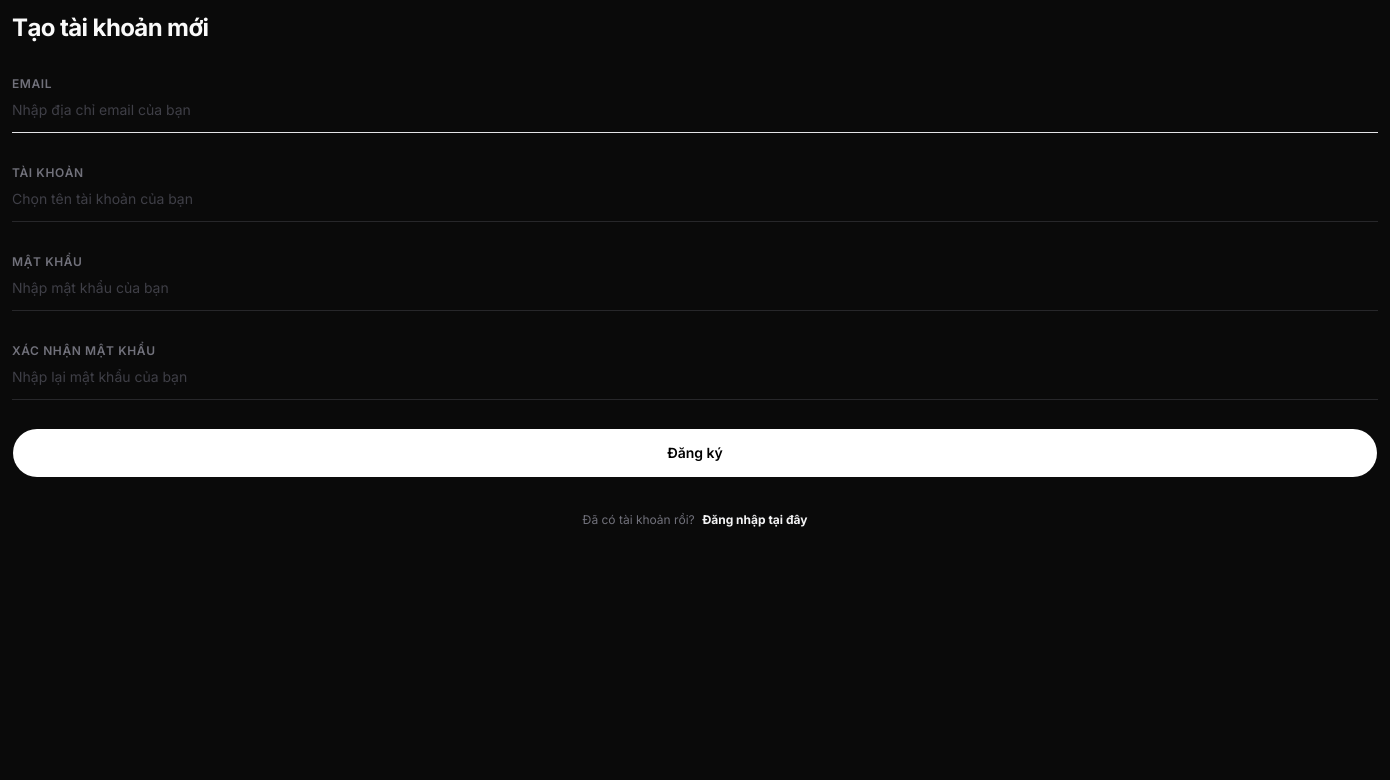
Scenario: RegisterForm (real BE) › shows usernameTaken on 409
Type "new@ysocial.dev" into the field with placeholder "Nhập địa chỉ email của bạn" at (695, 110), box [12,100,1378,120]
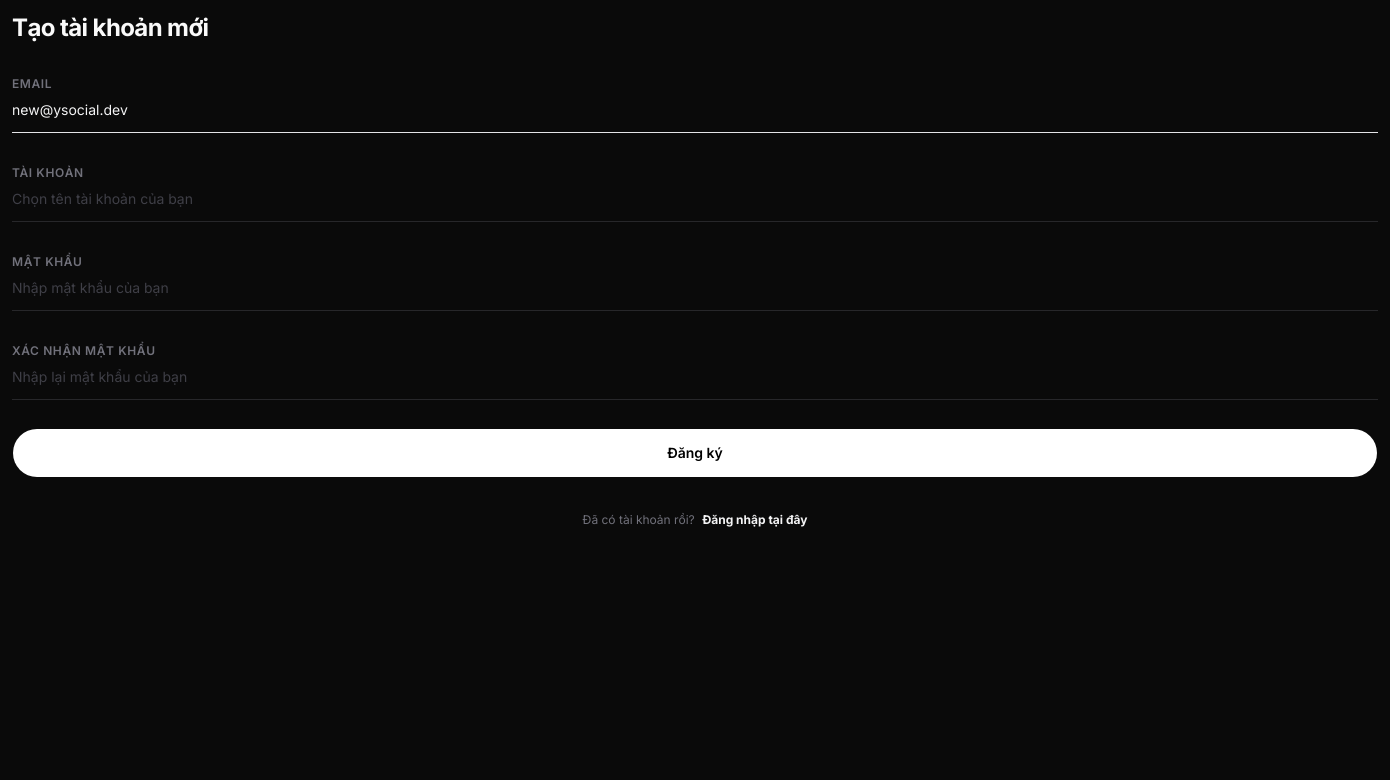
Type "new_user" into the field with placeholder "Chọn tên tài khoản của bạn" at (695, 199), box [12,189,1378,209]
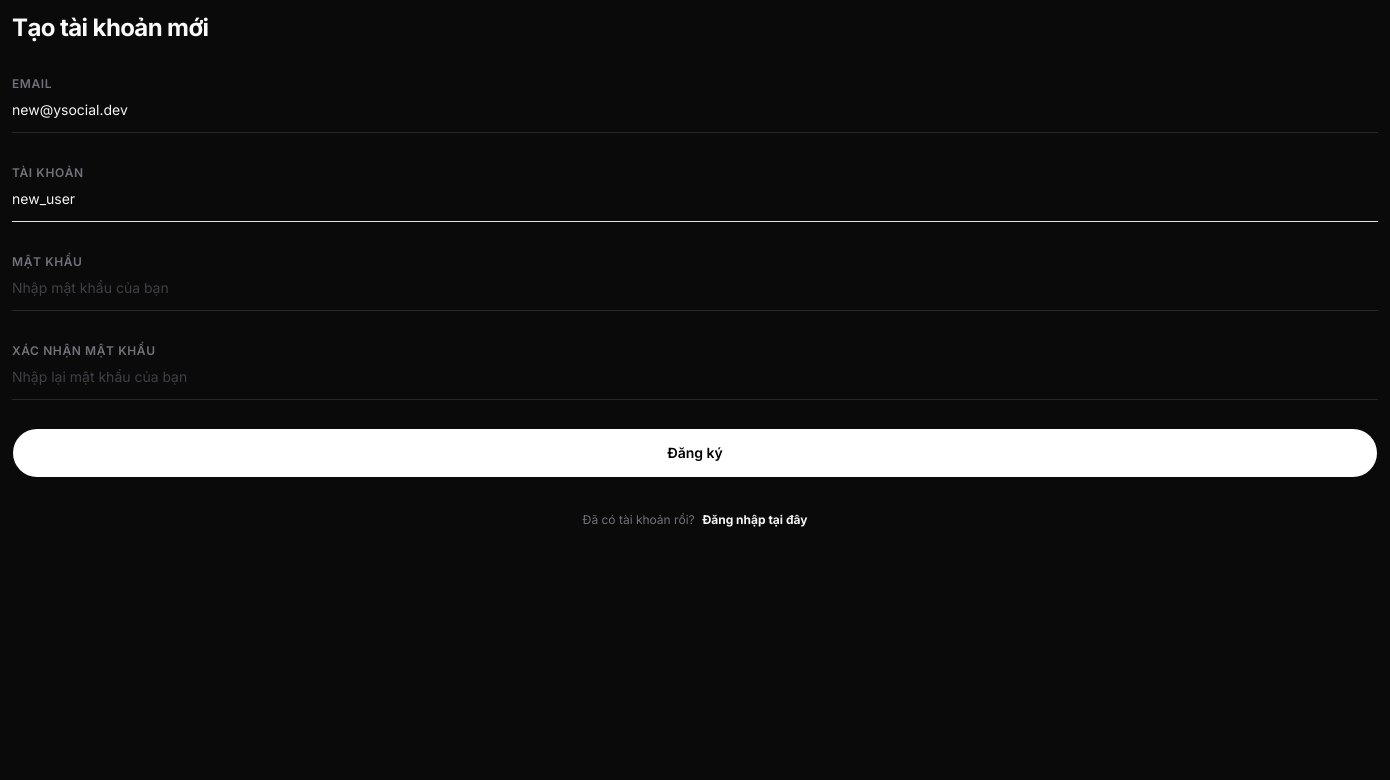
Type "secret1" into the password field with placeholder "Nhập mật khẩu của bạn" at (695, 288), box [12,278,1378,298]
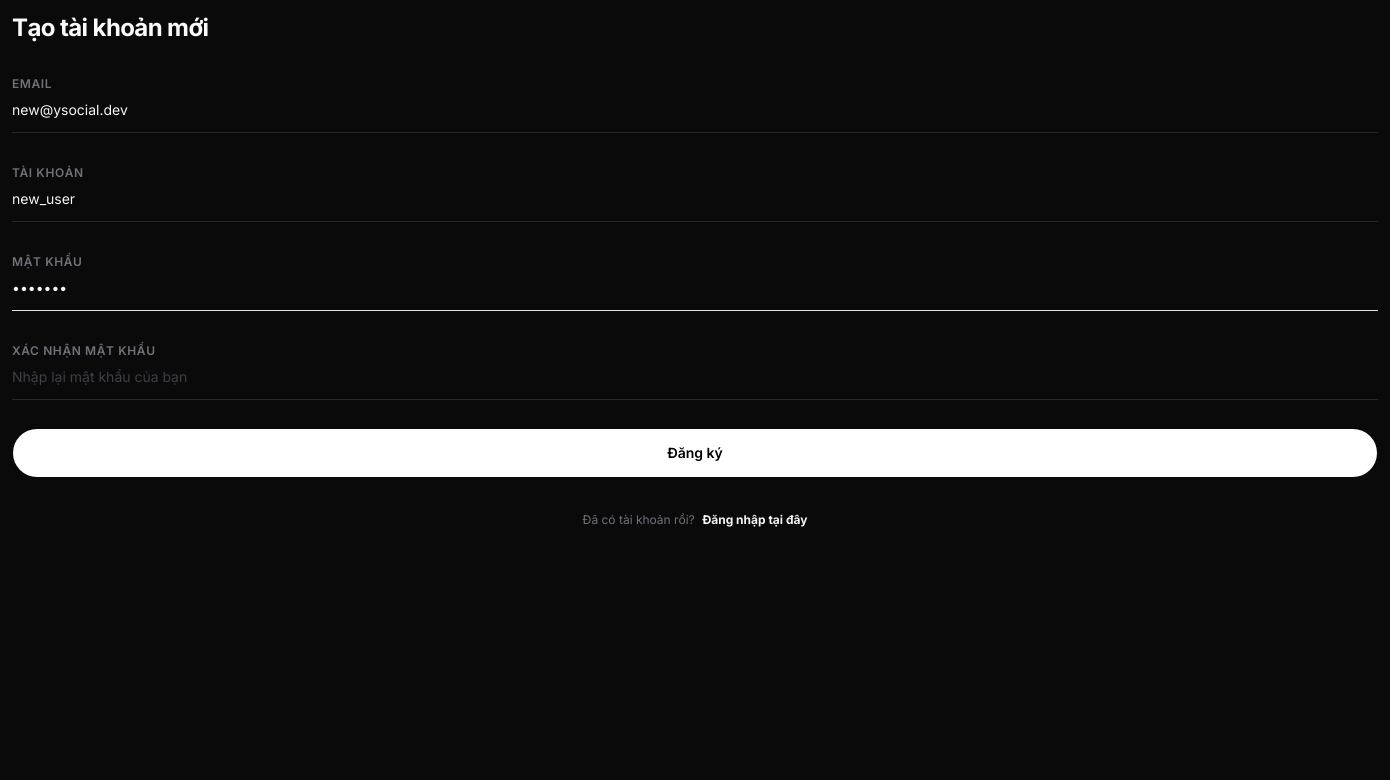
Type "secret1" into the password field with placeholder "Nhập lại mật khẩu của bạn" at (695, 377), box [12,367,1378,387]
Then press Enter
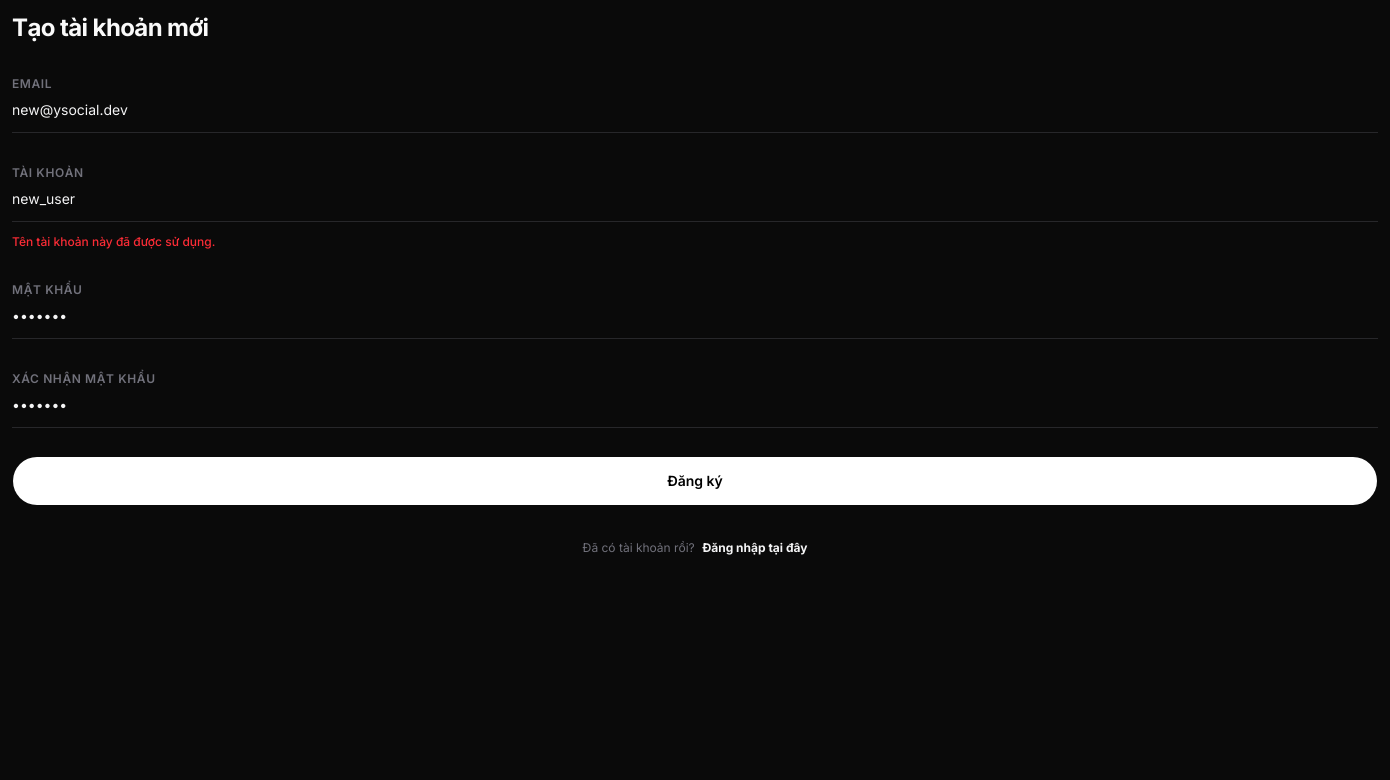
Expected: the text "Tên tài khoản này đã được sử dụng." is shown, [12,234,215,249]
